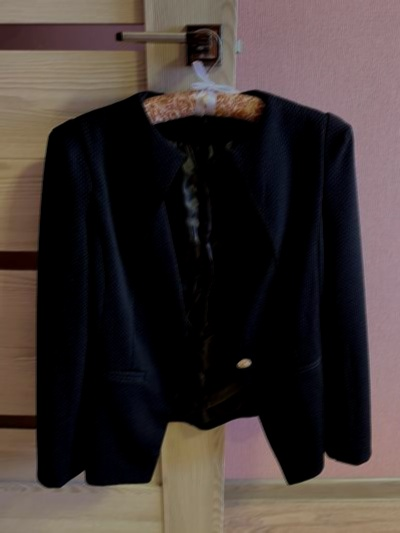Blazer: (14, 72, 381, 492)
